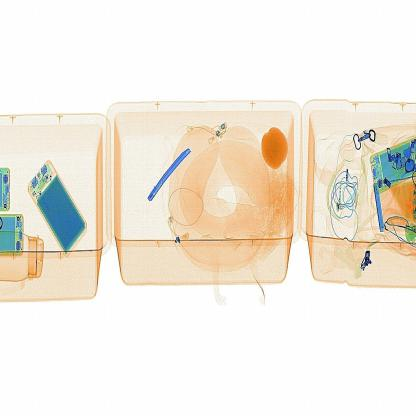pliers: (144, 138, 206, 200)
